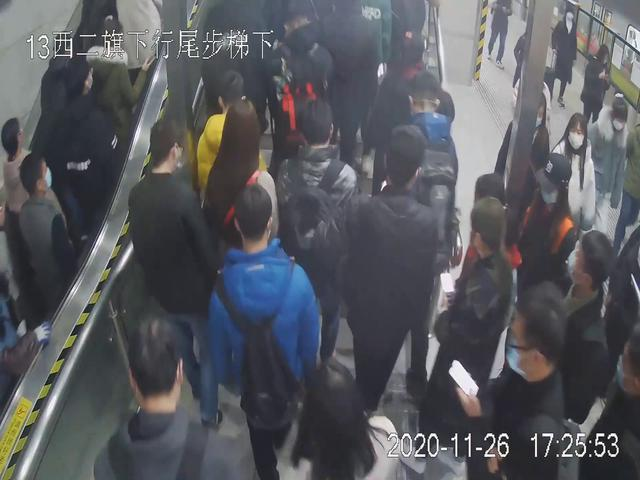person: (200, 184, 313, 480), (358, 117, 440, 415), (124, 116, 210, 371), (278, 101, 358, 366), (433, 195, 521, 432), (475, 283, 575, 480), (11, 149, 74, 300), (549, 111, 601, 227), (590, 96, 628, 235), (580, 43, 614, 127), (552, 7, 578, 106), (482, 1, 515, 68)
